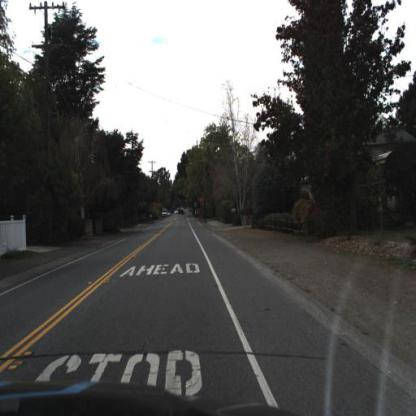car: (168, 212, 172, 217), (176, 211, 179, 215)
truck: (179, 209, 187, 216), (163, 210, 169, 219)
